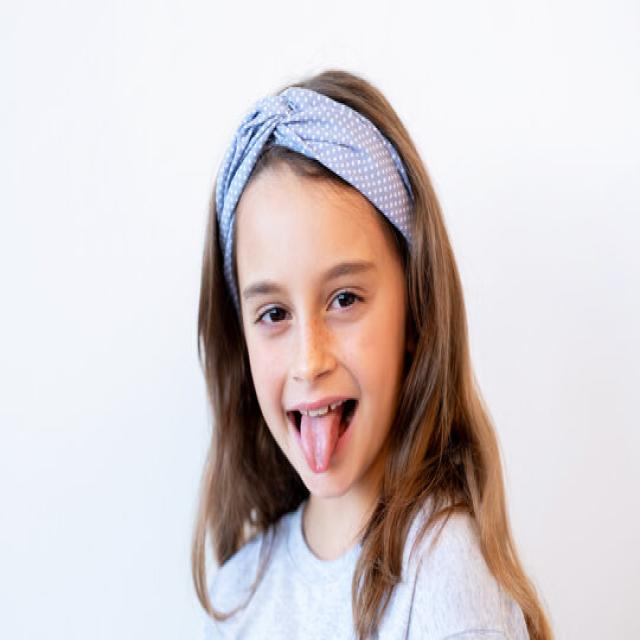tongue: (299, 413, 341, 472)
